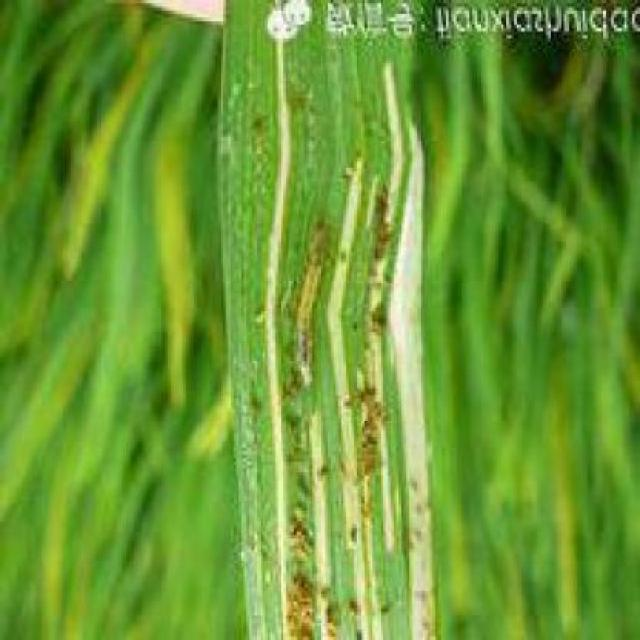leaf-folder: (274, 201, 352, 399)
